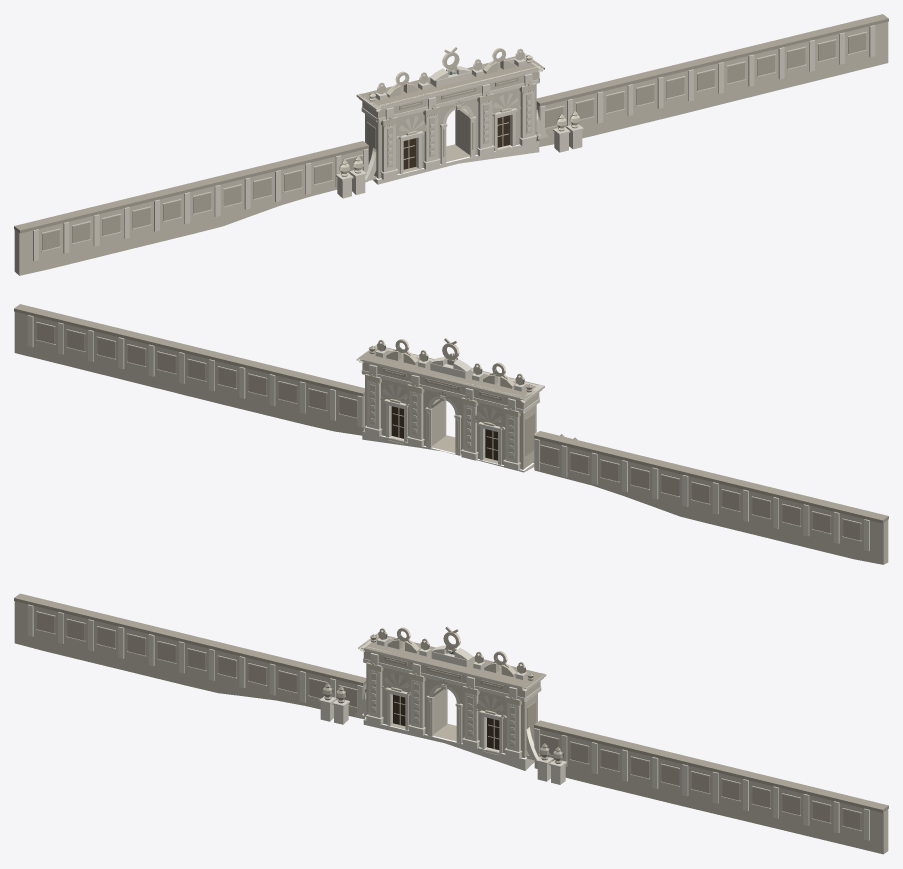
3 views of the same model, one above another, from view 1: azimuth 30°, elevation 25°; view 2: azimuth 150°, elevation 25°; view 3: azimuth 330°, elevation 25° (orthographic).
Parts seen in each view (by area): view 1: XY12-01 线法山门 Xianfa Shan Men; view 2: XY12-01 线法山门 Xianfa Shan Men; view 3: XY12-01 线法山门 Xianfa Shan Men.
Part boxes in pixels (box(x1,y1,x2,y2)): XY12-01 线法山门 Xianfa Shan Men: box(14, 14, 888, 275); XY12-01 线法山门 Xianfa Shan Men: box(14, 304, 888, 564); XY12-01 线法山门 Xianfa Shan Men: box(14, 593, 888, 854).
Bounding box in the file's own units: 74.7 × 9.85 × 3.28.
